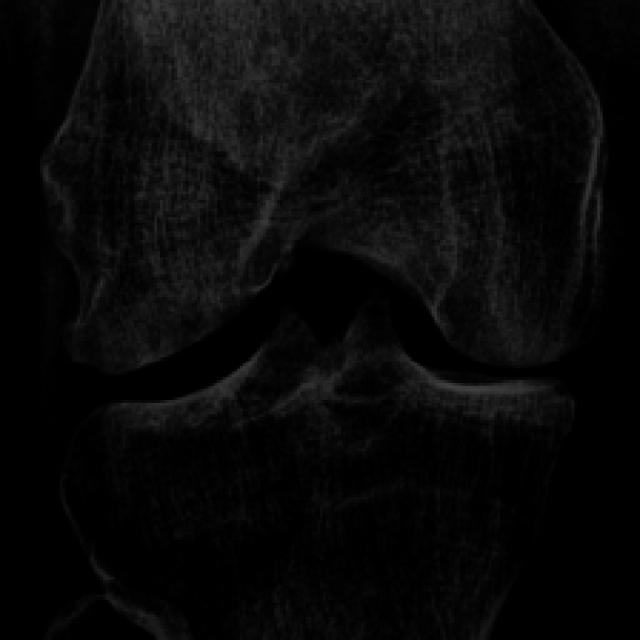femur: (43, 0, 610, 373)
tibia: (63, 289, 573, 637)
